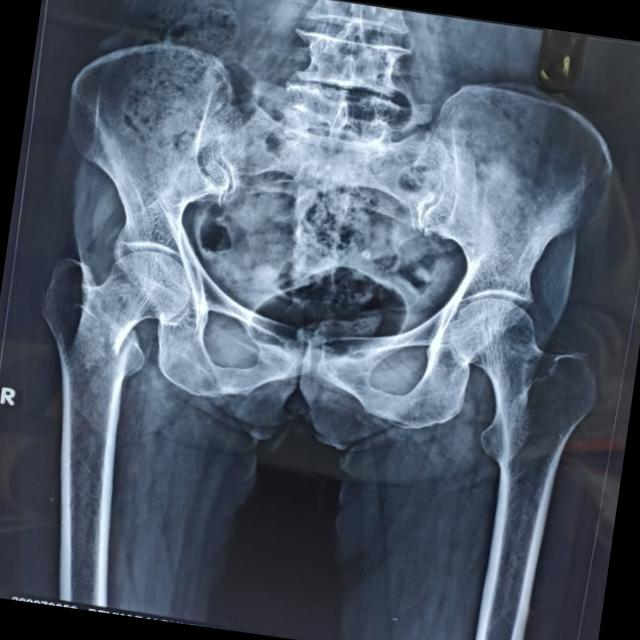normal-left: (450, 299, 598, 520)
right-neck: (41, 258, 144, 430), (80, 251, 191, 355)
